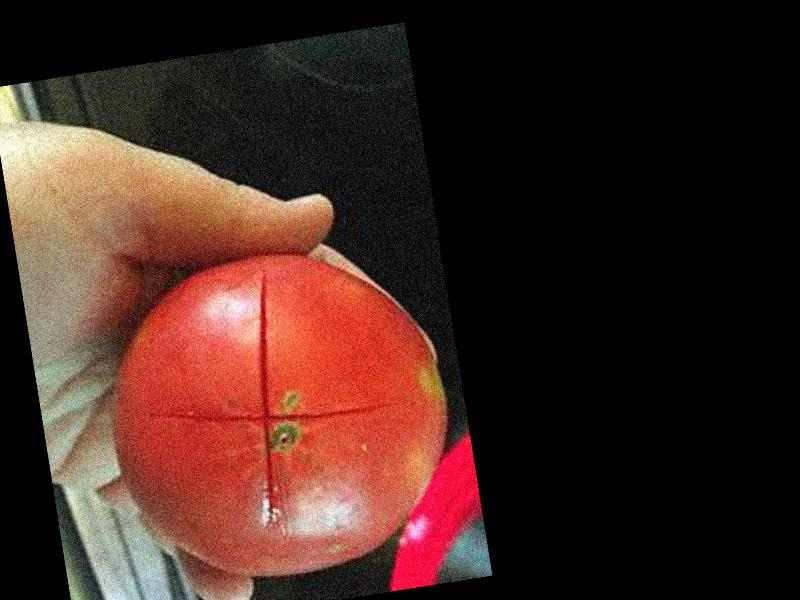Tomato: (88, 228, 468, 600)
